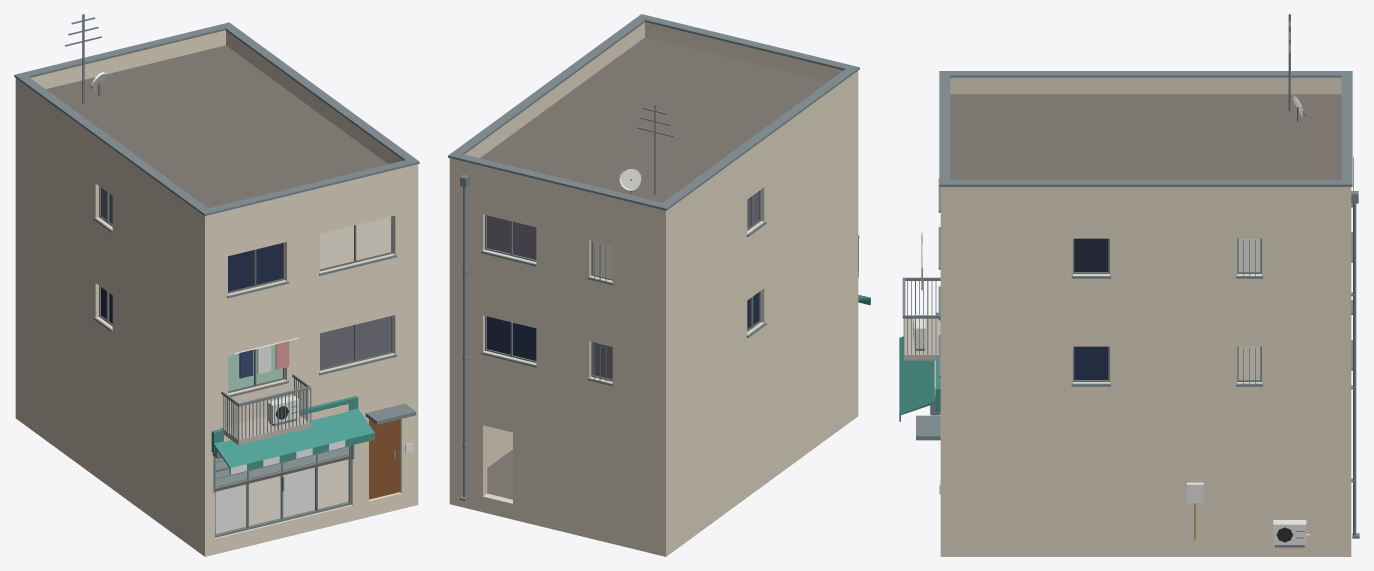
The model's file is tb_shop_house_3f_01.fbx.
3 renders of one model, left to right at view 1: azimuth 30°, elevation 25°; view 2: azimuth 150°, elevation 25°; view 3: azimuth 270°, elevation 25°, orthographic. The views are drawn at different scales.
Parts seen in each view (by area): view 1: tb_shop_house_3f_01; view 2: tb_shop_house_3f_01; view 3: tb_shop_house_3f_01.
Part boxes in pixels (x1,y1,x2,y2): tb_shop_house_3f_01: (14, 14, 419, 556); tb_shop_house_3f_01: (448, 14, 870, 556); tb_shop_house_3f_01: (899, 14, 1359, 556).
Size of what is drawn, in the model's own units: 7.01 by 12.1 by 11.2.
3 materials, 3 textured.
